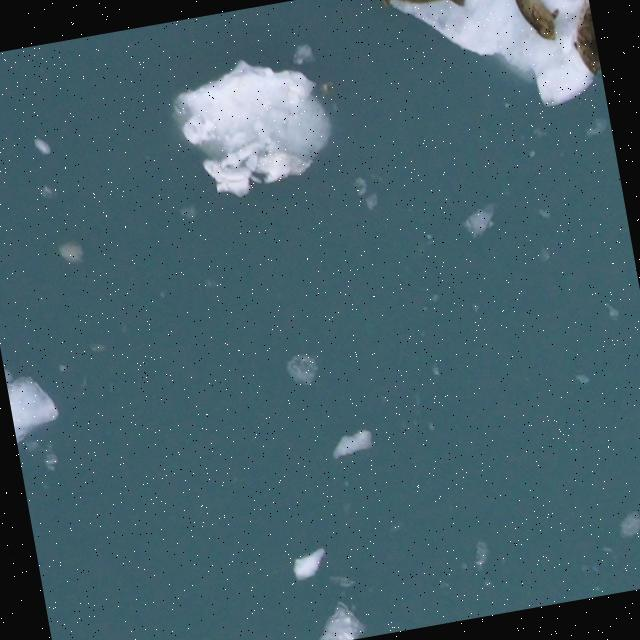seal: (564, 0, 601, 81), (510, 0, 568, 49), (371, 0, 471, 25)
